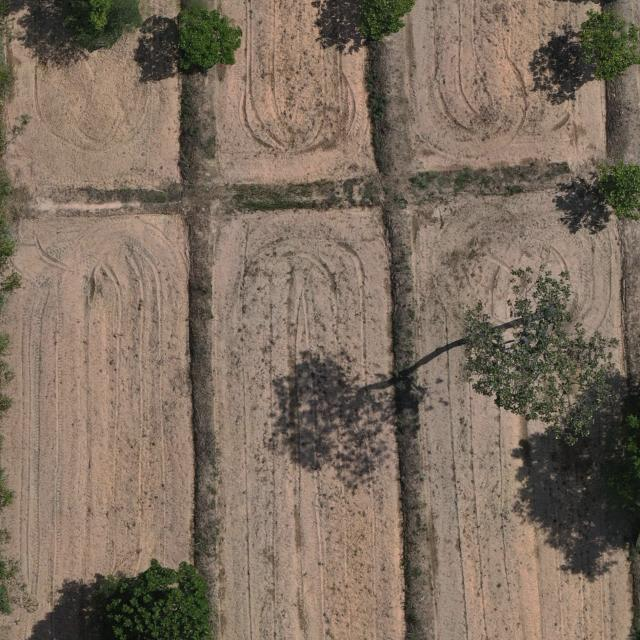Tree: (464, 263, 619, 449), (104, 556, 214, 640), (578, 8, 640, 82), (175, 5, 243, 70), (63, 0, 144, 51), (345, 0, 417, 44), (622, 356, 640, 522), (593, 159, 640, 222)
